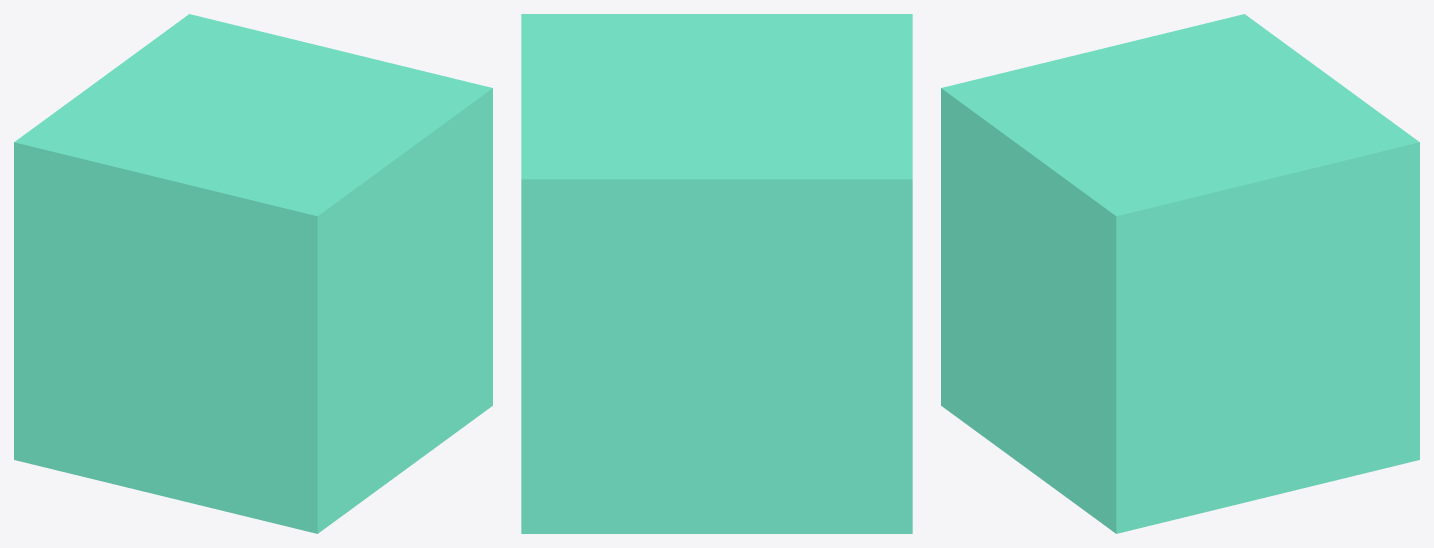
3 views of the same model, side by side, from view 1: azimuth 30°, elevation 25°; view 2: azimuth 150°, elevation 25°; view 3: azimuth 270°, elevation 25° (orthographic). The views are drawn at different scales.
Visible parts, largest first — view 1: SampleCube; view 2: SampleCube; view 3: SampleCube.
Boxes of the visible parts, x1,y1,x2,y2 form: SampleCube: (14,14,492,533); SampleCube: (521,14,912,533); SampleCube: (941,14,1419,533).
Bounding box in the file's own units: 1.91 × 1.4 × 1.91.
